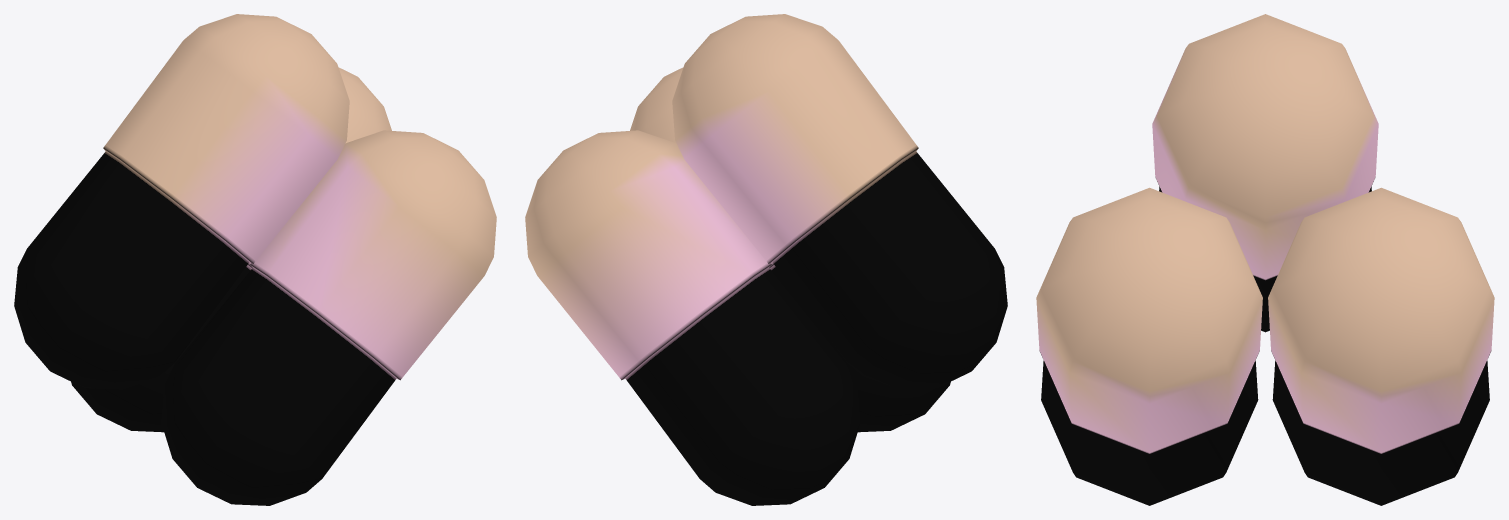
File: item-0502-color.glb
The picture shows the model from 3 angles, left to right: view 1: azimuth 30°, elevation 25°; view 2: azimuth 150°, elevation 25°; view 3: azimuth 270°, elevation 25°; orthographic projection. The views are drawn at different scales.
Parts seen in each view (by area): view 1: role_0; view 2: role_0; view 3: role_0.
Boxes of the visible parts, x1,y1,x2,y2 form: role_0: (14,14,496,505); role_0: (525,14,1007,505); role_0: (1036,14,1494,505).
Size of the model in its own units: 0.704 by 0.7072 by 0.5935.
Materials: 2 (2 with a texture image).
